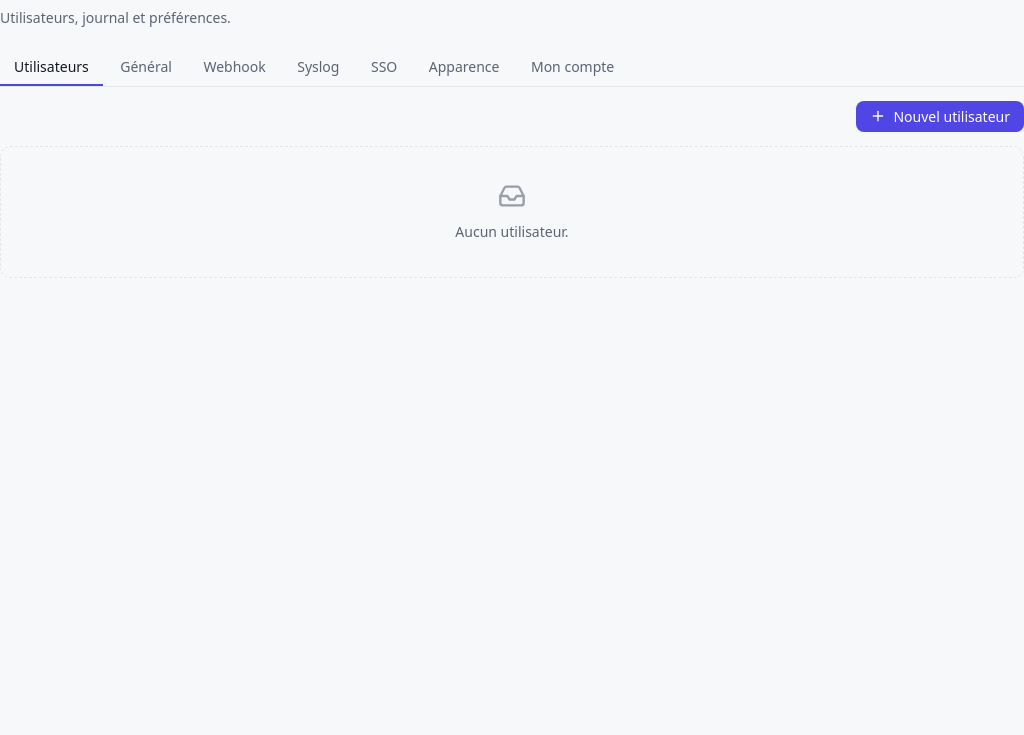
réglages SSO › avertit d'un issuer HTTP et affiche le résultat du test de découverte
Click the tab "SSO" at coordinates (384, 67), box [357,48,411,86]
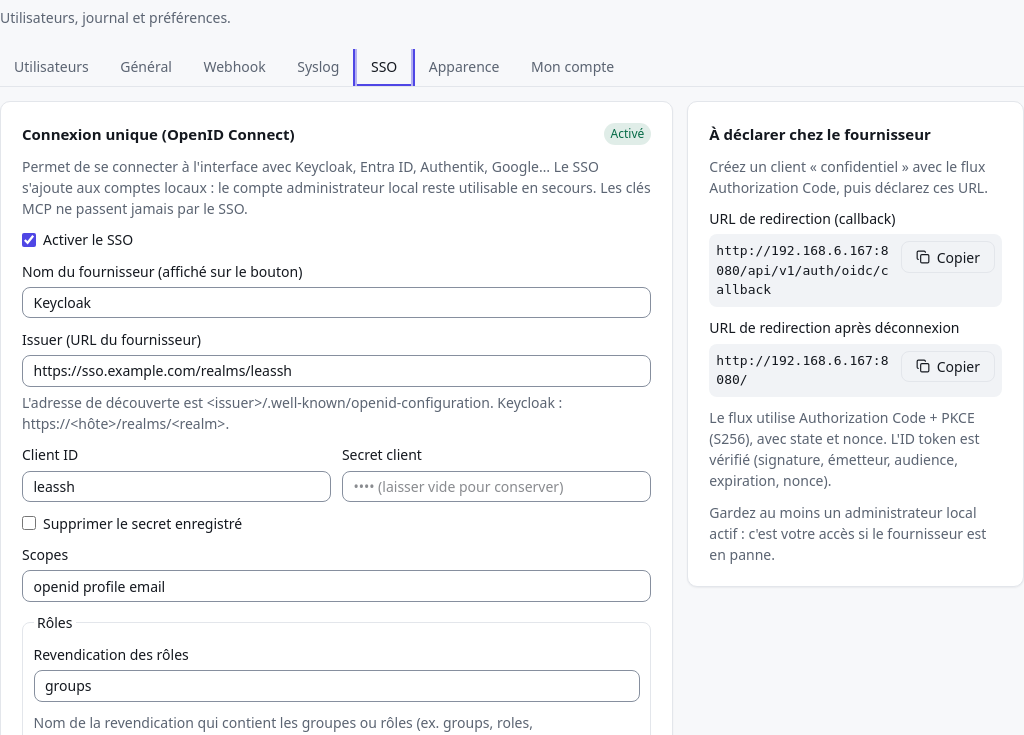
Type "http://kc.lan/realms/leassh" into the field labelled "Issuer (URL du fournisseur)" at coordinates (337, 371), box [22,355,651,386]
(page scrolled)
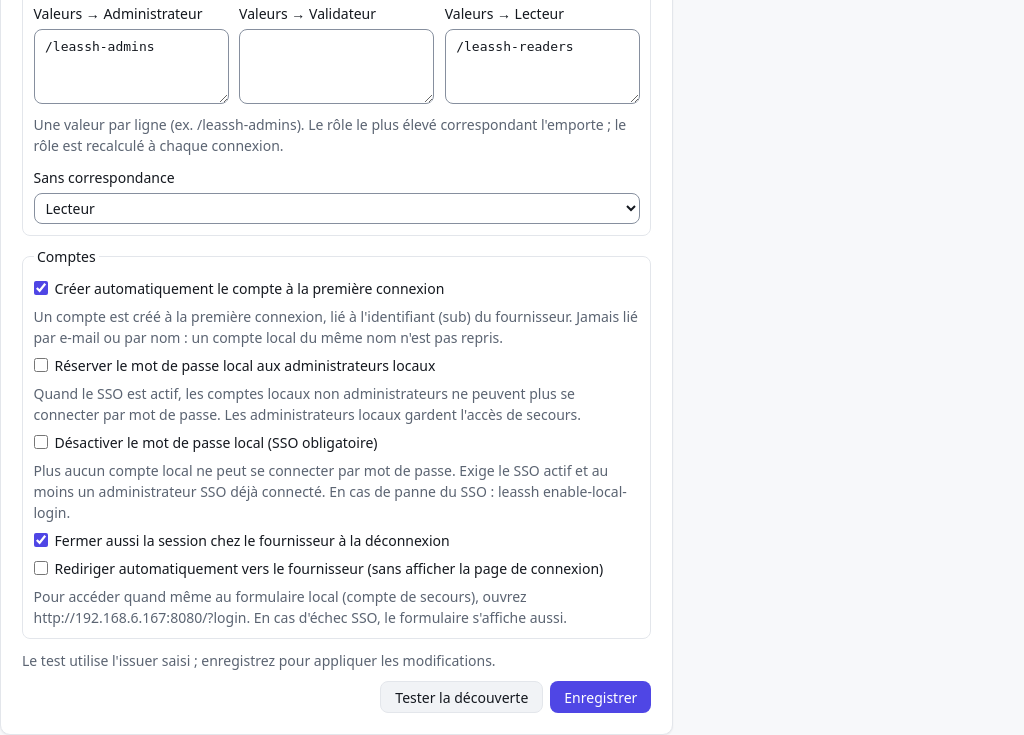
Click the button "Tester la découverte" at coordinates (462, 697), box [380,681,543,713]
(page scrolled)
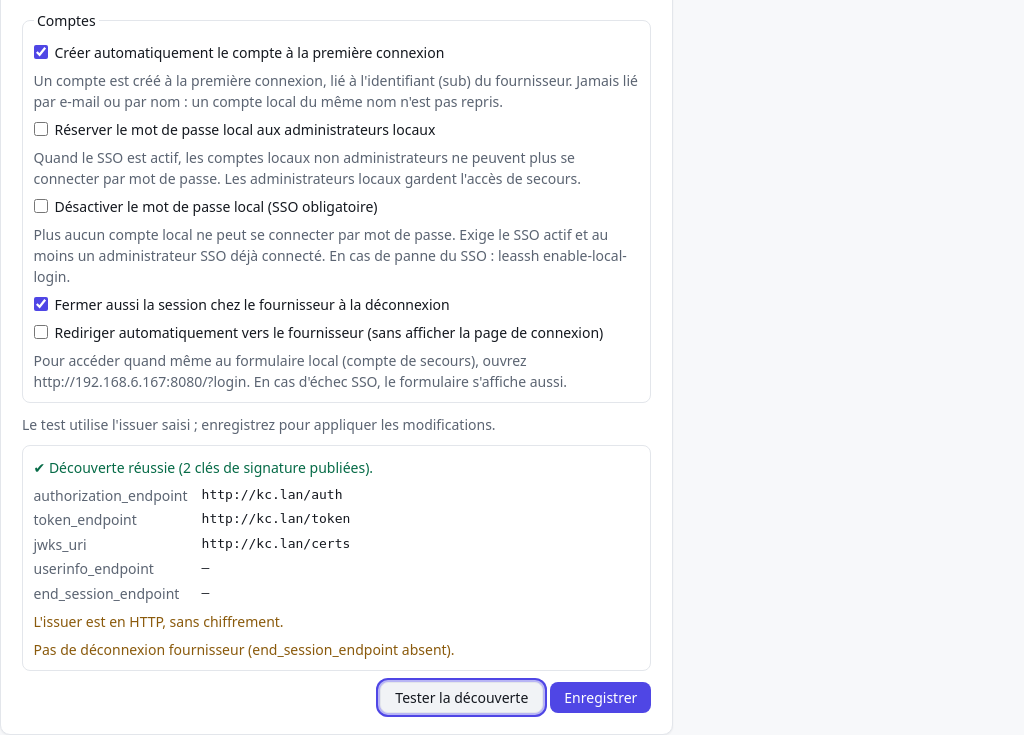
Check: the text "✔ Découverte réussie (2 clés de signature publiées)." is shown, box [34,458,373,477]
Check: the text "http://kc.lan/token" is shown, box [202,511,350,526]
Check: the text "L'issuer est en HTTP, sans chiffrement." is shown, box [34,612,284,631]
